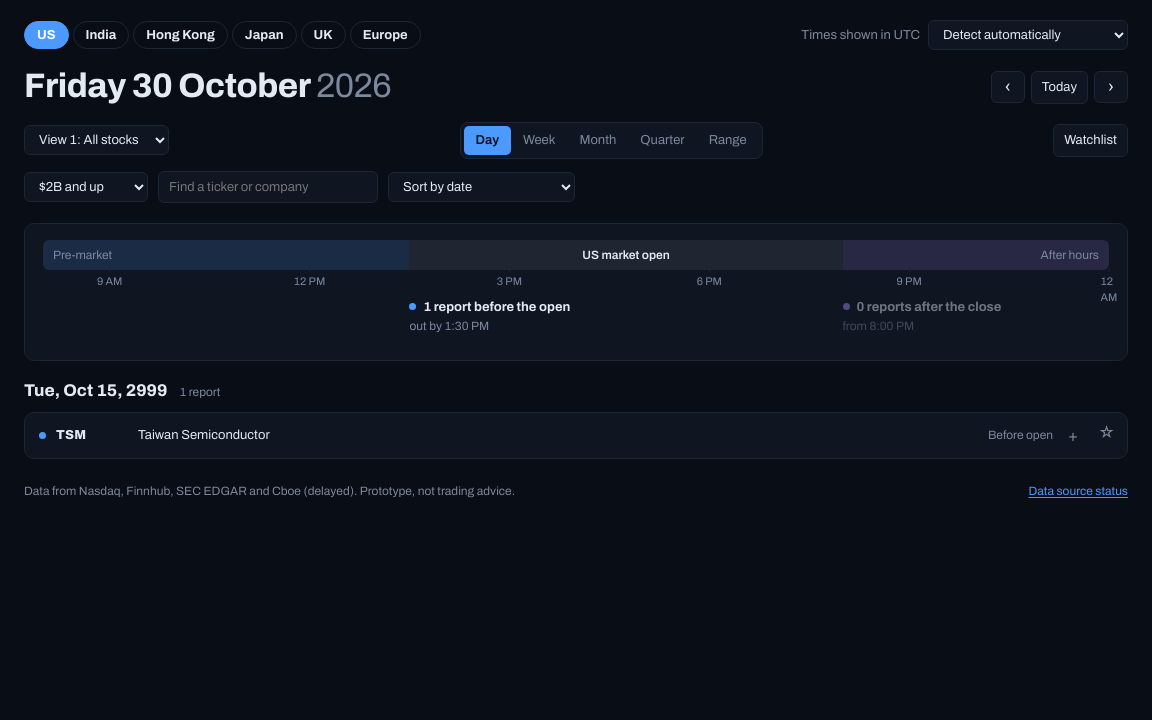
US starts on the original view; "My stocks" starts empty and hides the calendar rows
Expected: the text "Taiwan Semiconductor" is shown, x1=138 y1=428 x2=270 y2=442
Select "View 2: My stocks" in the dropdown named "View": (96, 140) x1=24 y1=125 x2=169 y2=155
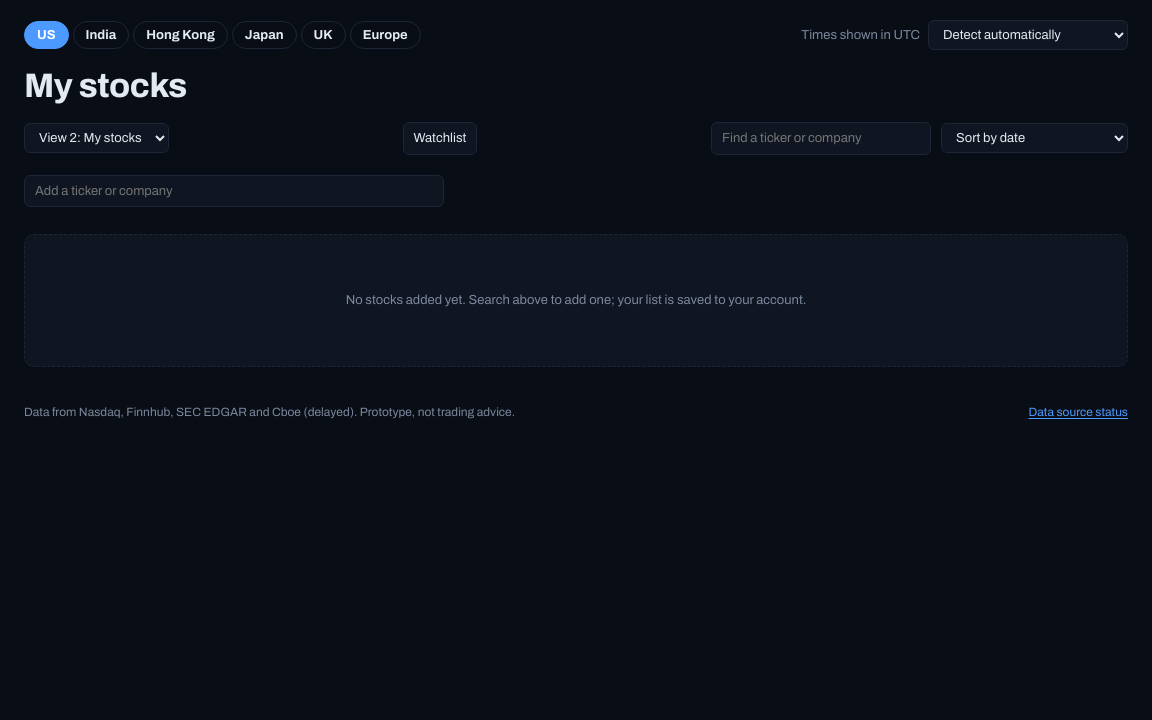
Result: the text "No stocks added yet" is shown at x1=346 y1=293 x2=806 y2=307
Result: the button "Taiwan Semiconductor" is gone
Result: the element "Period" is gone
